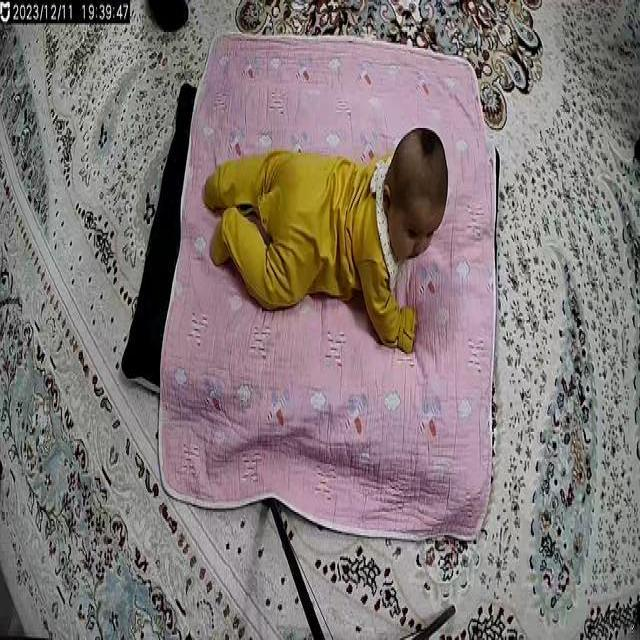baby: (204, 120, 454, 362)
